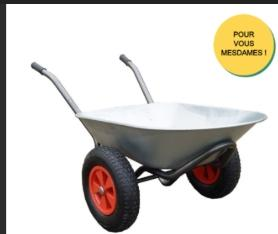BROUETTE: (29, 52, 273, 234)
